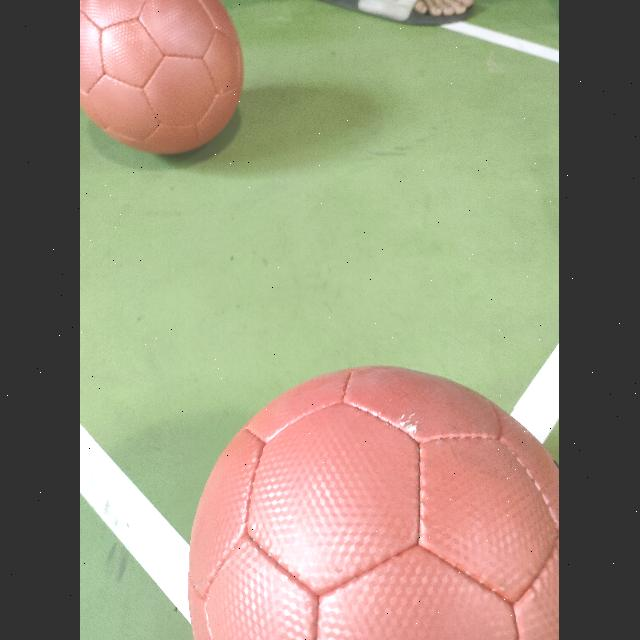R: (184, 368, 560, 640), (80, 0, 244, 156)
